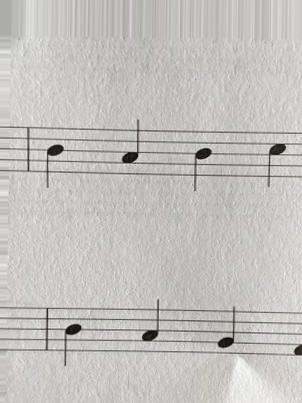A: (136, 293, 165, 361), (116, 118, 145, 177)
B: (38, 123, 68, 196), (188, 125, 216, 196), (58, 301, 86, 372)
G: (213, 302, 242, 365)
HC: (262, 125, 288, 199)
